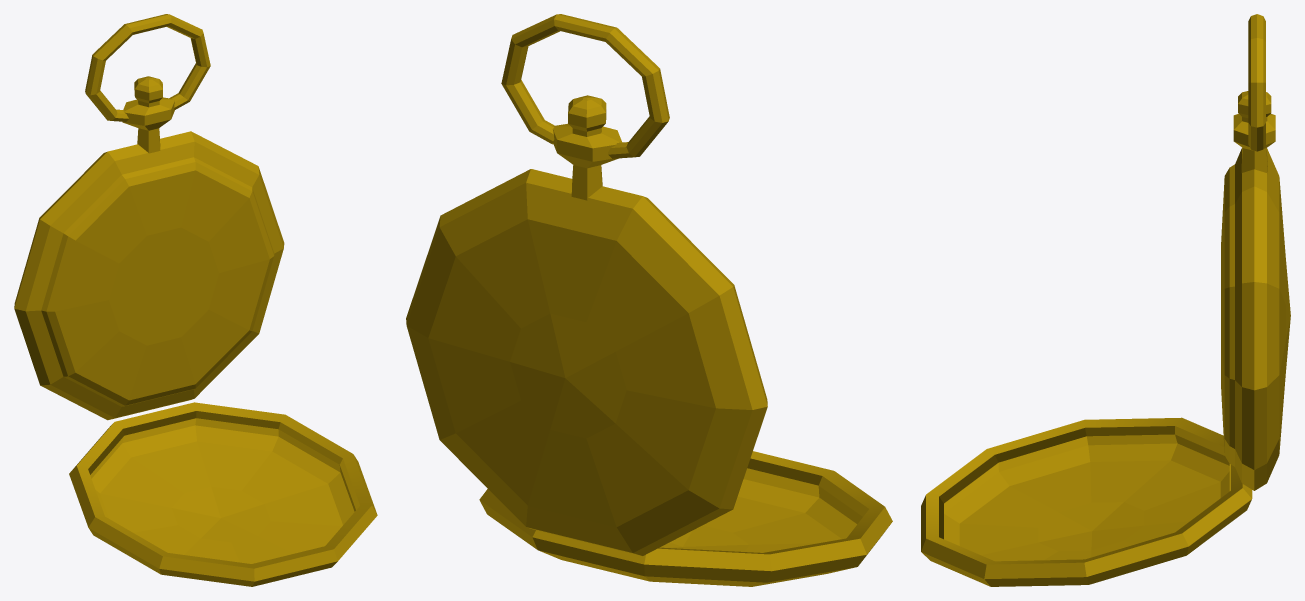
Rendered from mod_pocket_watch.fbx.
3 renders of one model, left to right at view 1: azimuth 30°, elevation 25°; view 2: azimuth 150°, elevation 25°; view 3: azimuth 270°, elevation 25°, orthographic. The views are drawn at different scales.
Visible parts, largest first — view 1: mod_pocket_watch; view 2: mod_pocket_watch; view 3: mod_pocket_watch.
Part boxes in pixels (bbox=[...]): mod_pocket_watch: bbox=[14, 14, 377, 586]; mod_pocket_watch: bbox=[406, 14, 892, 586]; mod_pocket_watch: bbox=[921, 14, 1290, 586].
Bounding box in the file's own units: 43.14 × 69.98 × 45.14.
